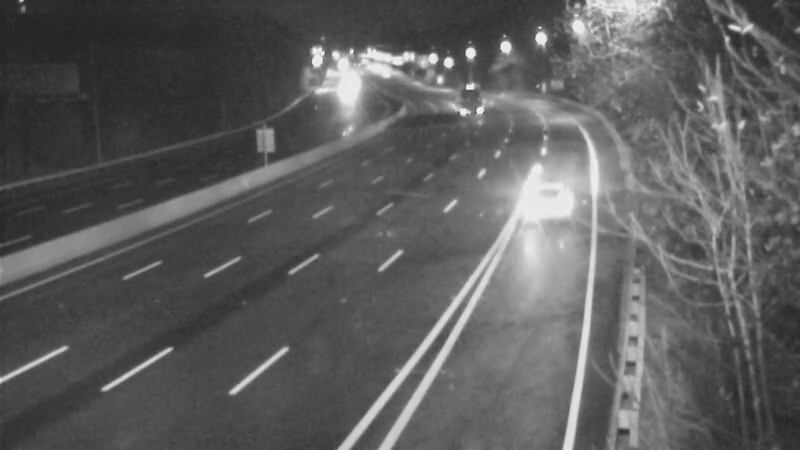vehicle: (512, 157, 592, 237), (440, 67, 490, 117), (324, 63, 374, 113)
